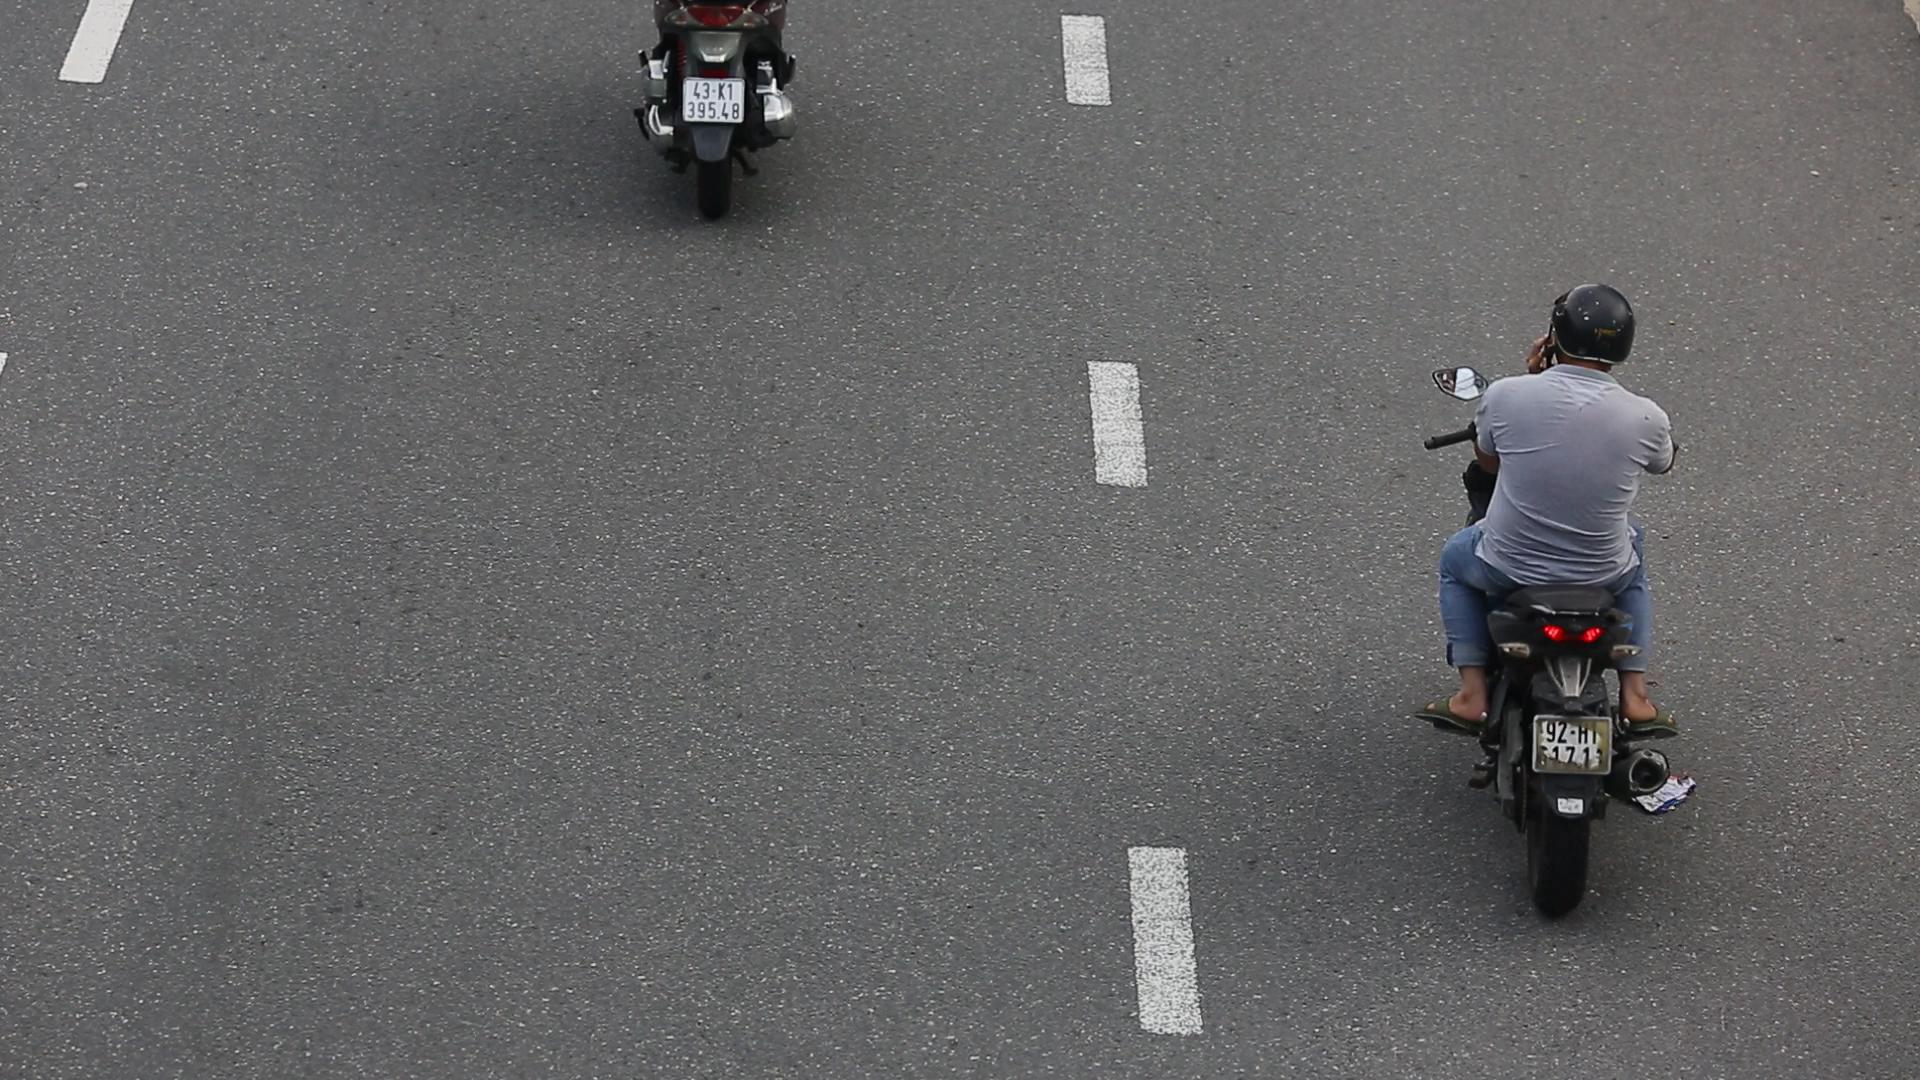motobike: (1411, 266, 1697, 930)
